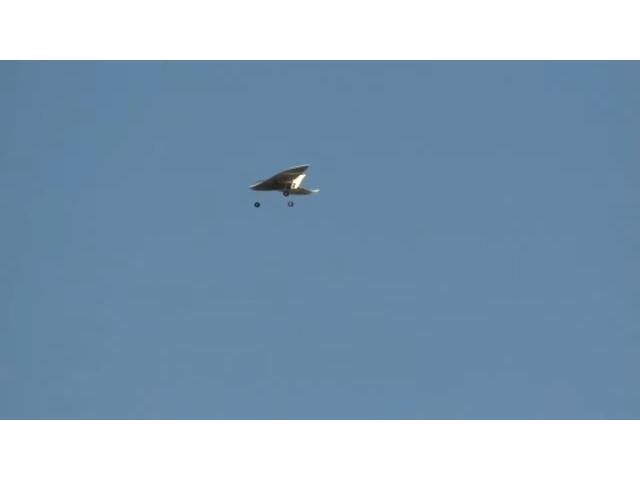Anti-Drone: (249, 164, 317, 196)
